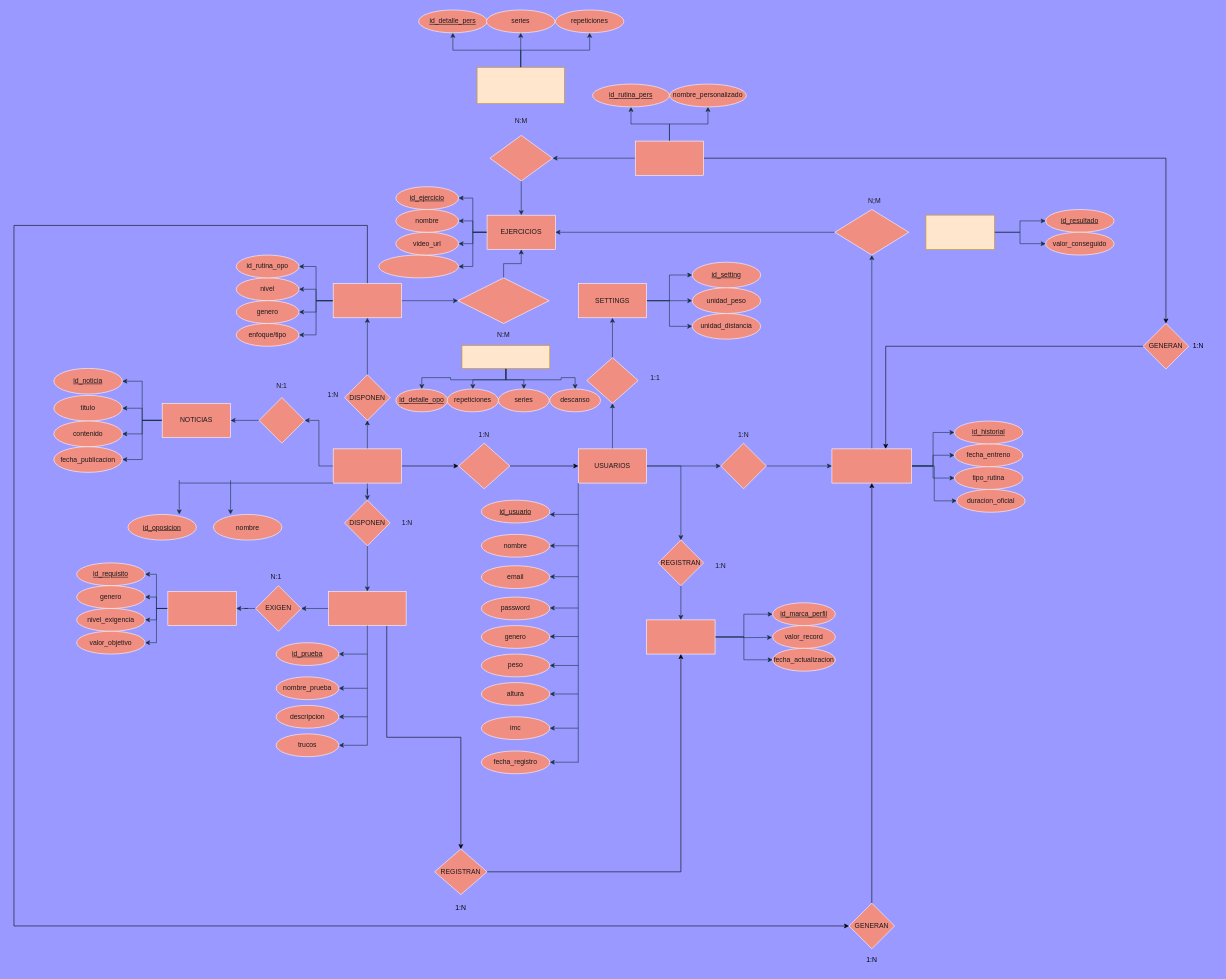
The diagram is 1226 pixels wide and 979 high, and some of its shapes have lost their labels. The shapes that lost their labels are listed below. From the top down, each one's box as (x1, y1, x2, y2) in pixels, then its label:
(477, 67, 564, 103): DETALLE_RUTINA_PERS
(489, 135, 553, 181): INCLUYEN/USAN
(635, 141, 704, 175): RUTINAS_PERS
(834, 209, 909, 255): DETALLAN/MIDEN
(925, 215, 994, 249): registro_resultados
(378, 255, 459, 278): instrucciones_tecnicas
(333, 283, 402, 318): RUTINAS_OPO
(457, 277, 549, 323): CONTIENEN/ASIGNAN
(461, 345, 550, 368): DETALLE_RUTINA_OPO
(586, 357, 638, 403): CONFIGURAN
(258, 397, 305, 443): INFORMAN
(333, 448, 402, 483): OPOSICIONES
(458, 443, 510, 489): CONTIENEN
(720, 443, 766, 489): REALIZAN
(831, 448, 912, 483): HISTORIAL_SESIONES
(167, 591, 236, 626): REQUISITOS_NIVEL
(328, 591, 406, 626): PRUEBAS_OFICIALES
(646, 619, 715, 654): MARCAS_PERFIL
